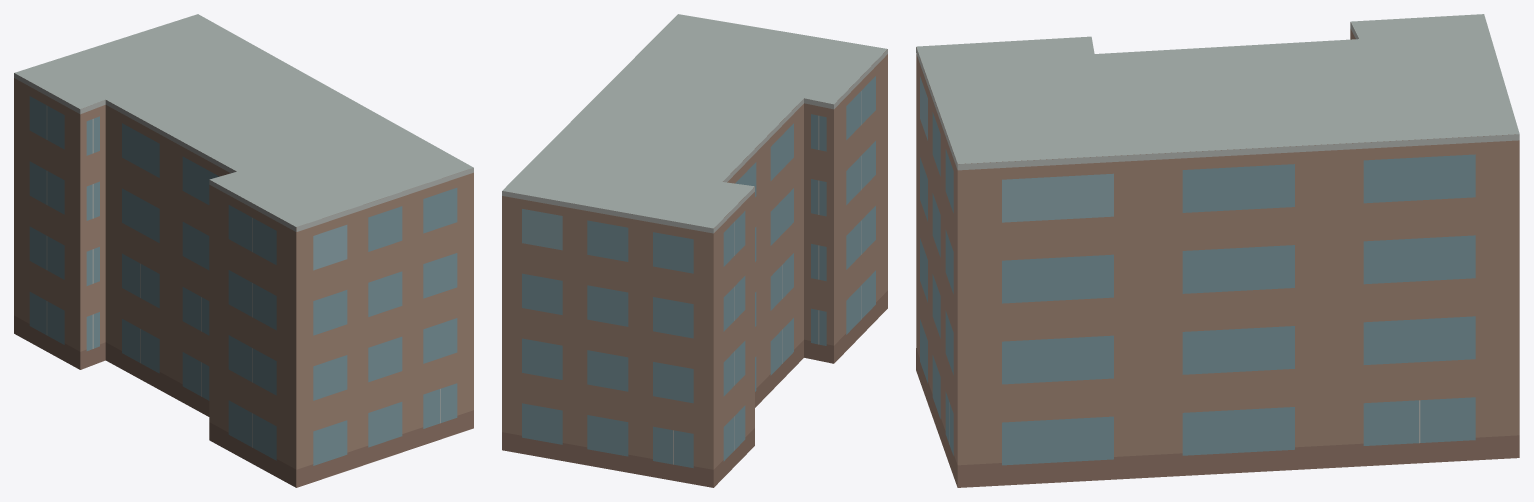
File: survey-upis-32920364.glb
3 views of the same model, side by side, from view 1: azimuth 30°, elevation 25°; view 2: azimuth 150°, elevation 25°; view 3: azimuth 270°, elevation 25° (orthographic). The views are drawn at different scales.
Visible parts, largest first — view 1: survey-upis-32920364.tmp; view 2: survey-upis-32920364.tmp; view 3: survey-upis-32920364.tmp.
Part boxes in pixels (x1,y1,x2,y2): survey-upis-32920364.tmp: (14, 14, 473, 487); survey-upis-32920364.tmp: (502, 14, 887, 487); survey-upis-32920364.tmp: (916, 14, 1519, 487).
Size of the model in its own units: 12.59 by 12.65 by 21.39.
